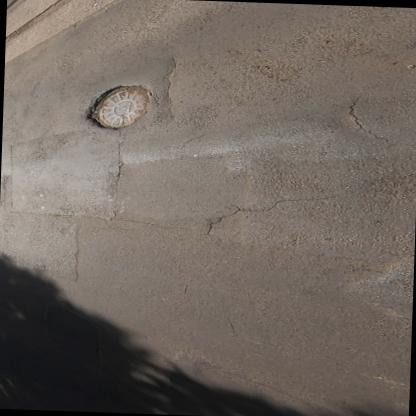manholes: (75, 77, 168, 133)
